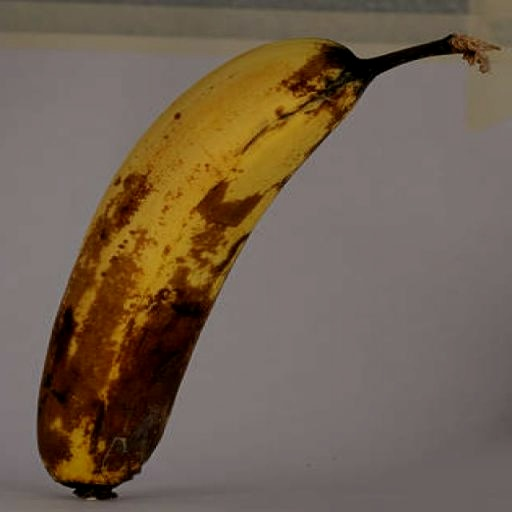fruit: (37, 35, 493, 498)
